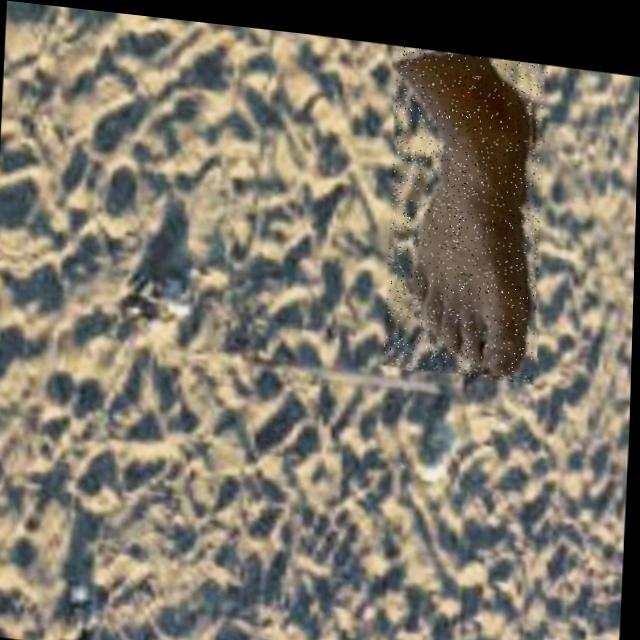Person in Rubble: (383, 35, 547, 372)
